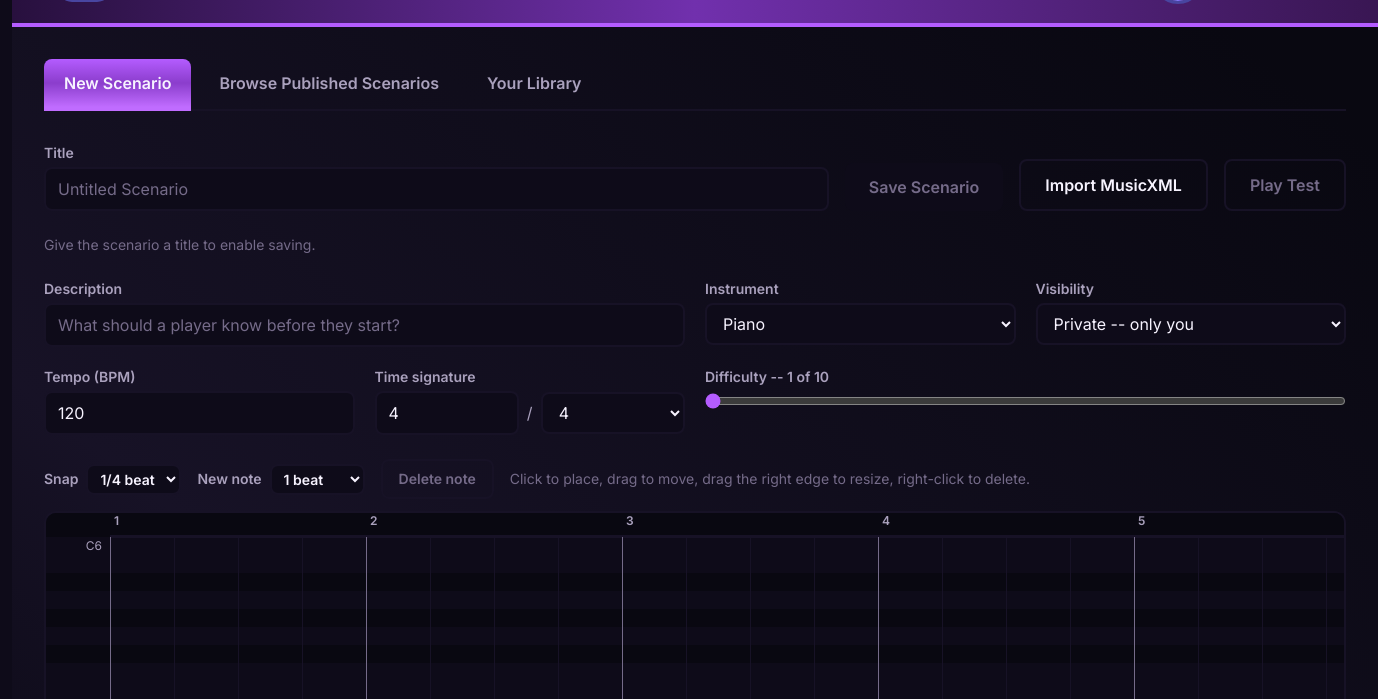
Test: editor tabs › keeps the open tab in the URL so a return trip reopens it
Step 1. Click the tab "Your Library" → [534, 85], box [467,59,601,111]
(page scrolled)
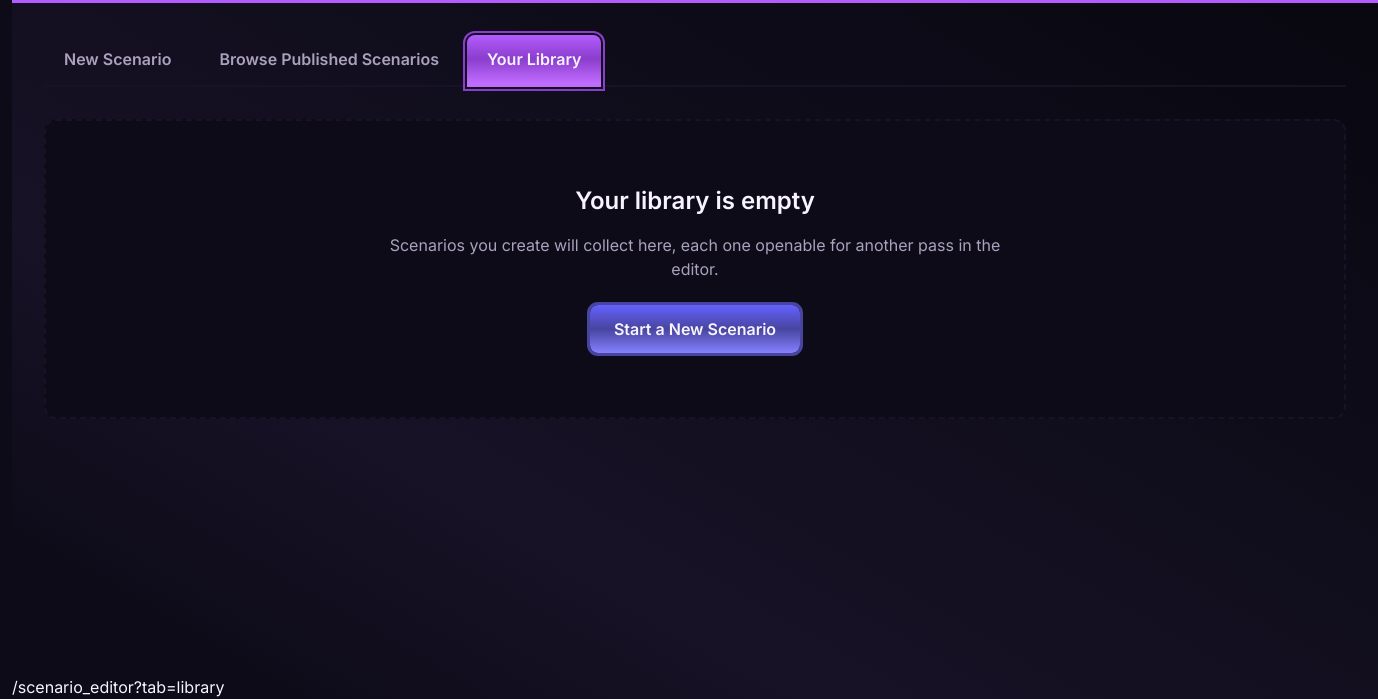
Now the text with test id "location" reads "/scenario_editor?tab=library", box [12,677,224,697]
